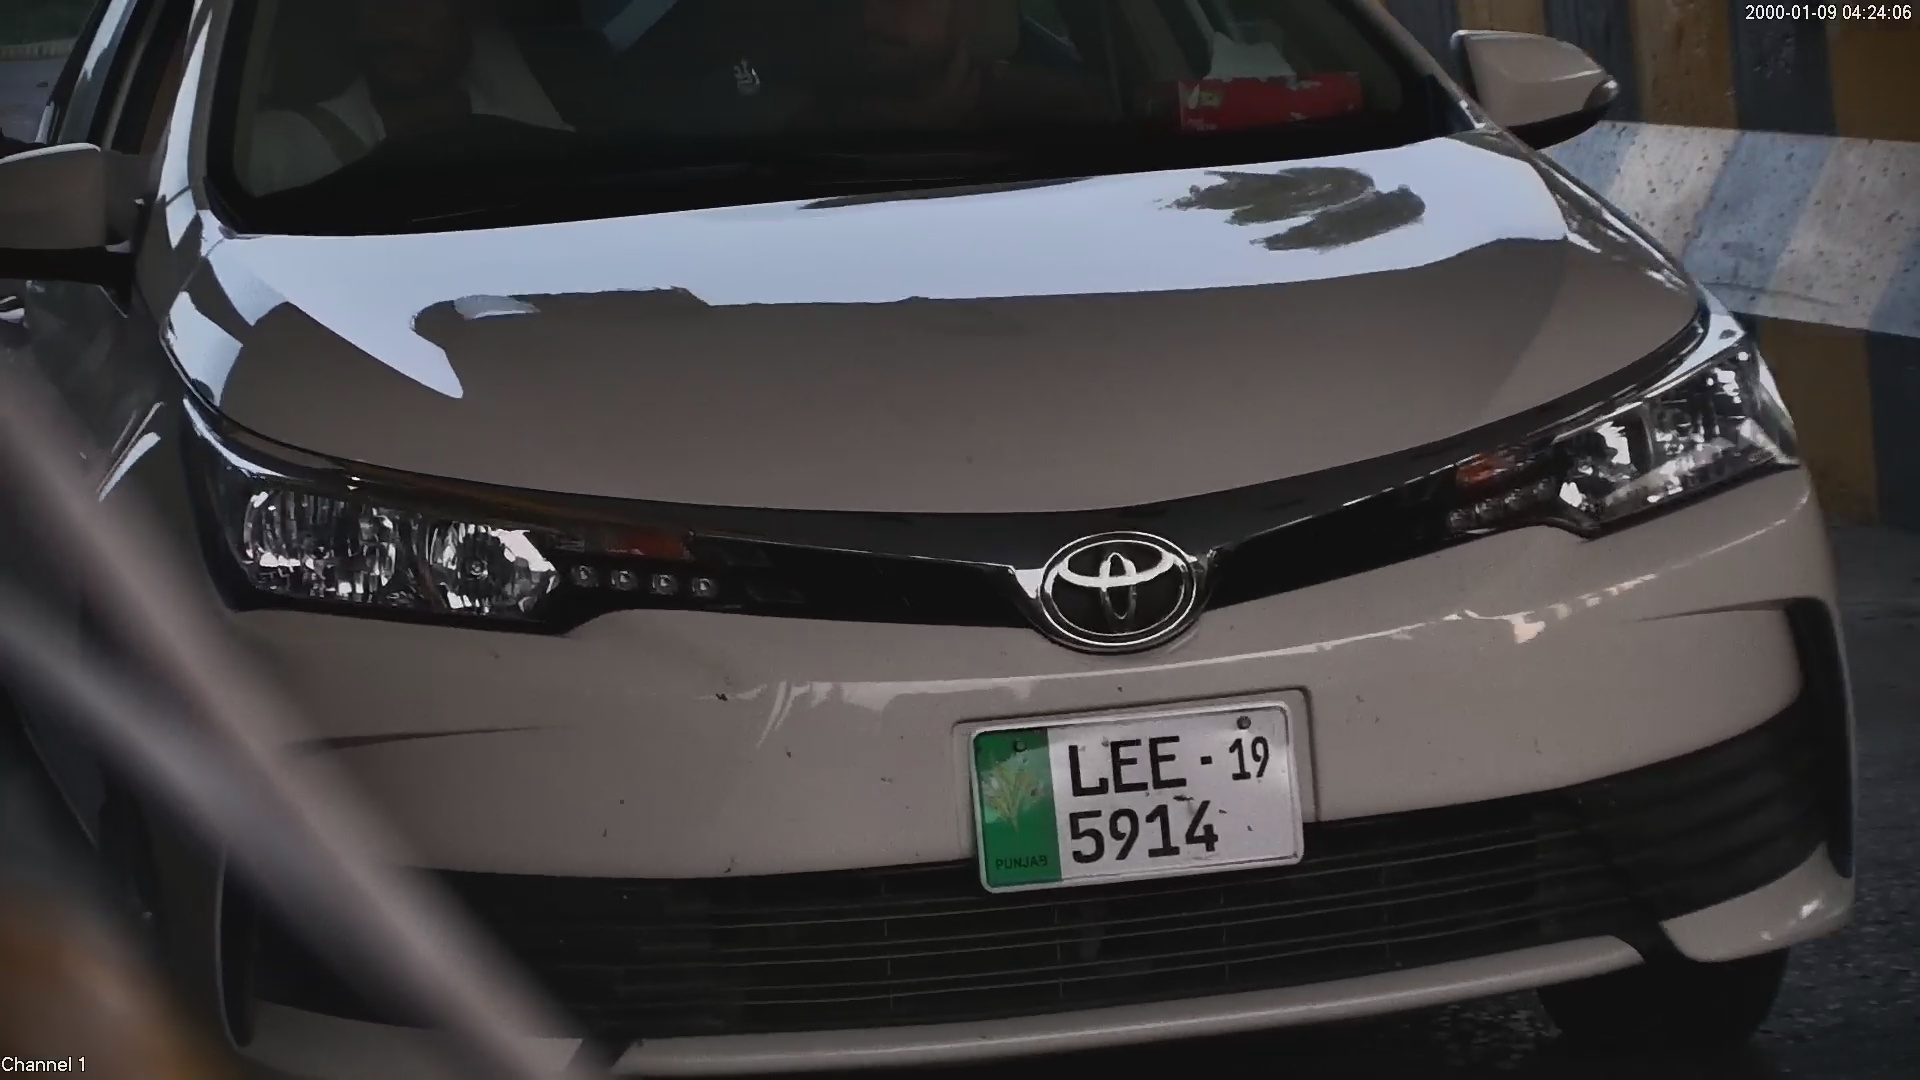Number_Plate: (945, 699, 1337, 896)
Undefined: (223, 462, 595, 638), (1504, 359, 1789, 523), (1052, 544, 1189, 633)
